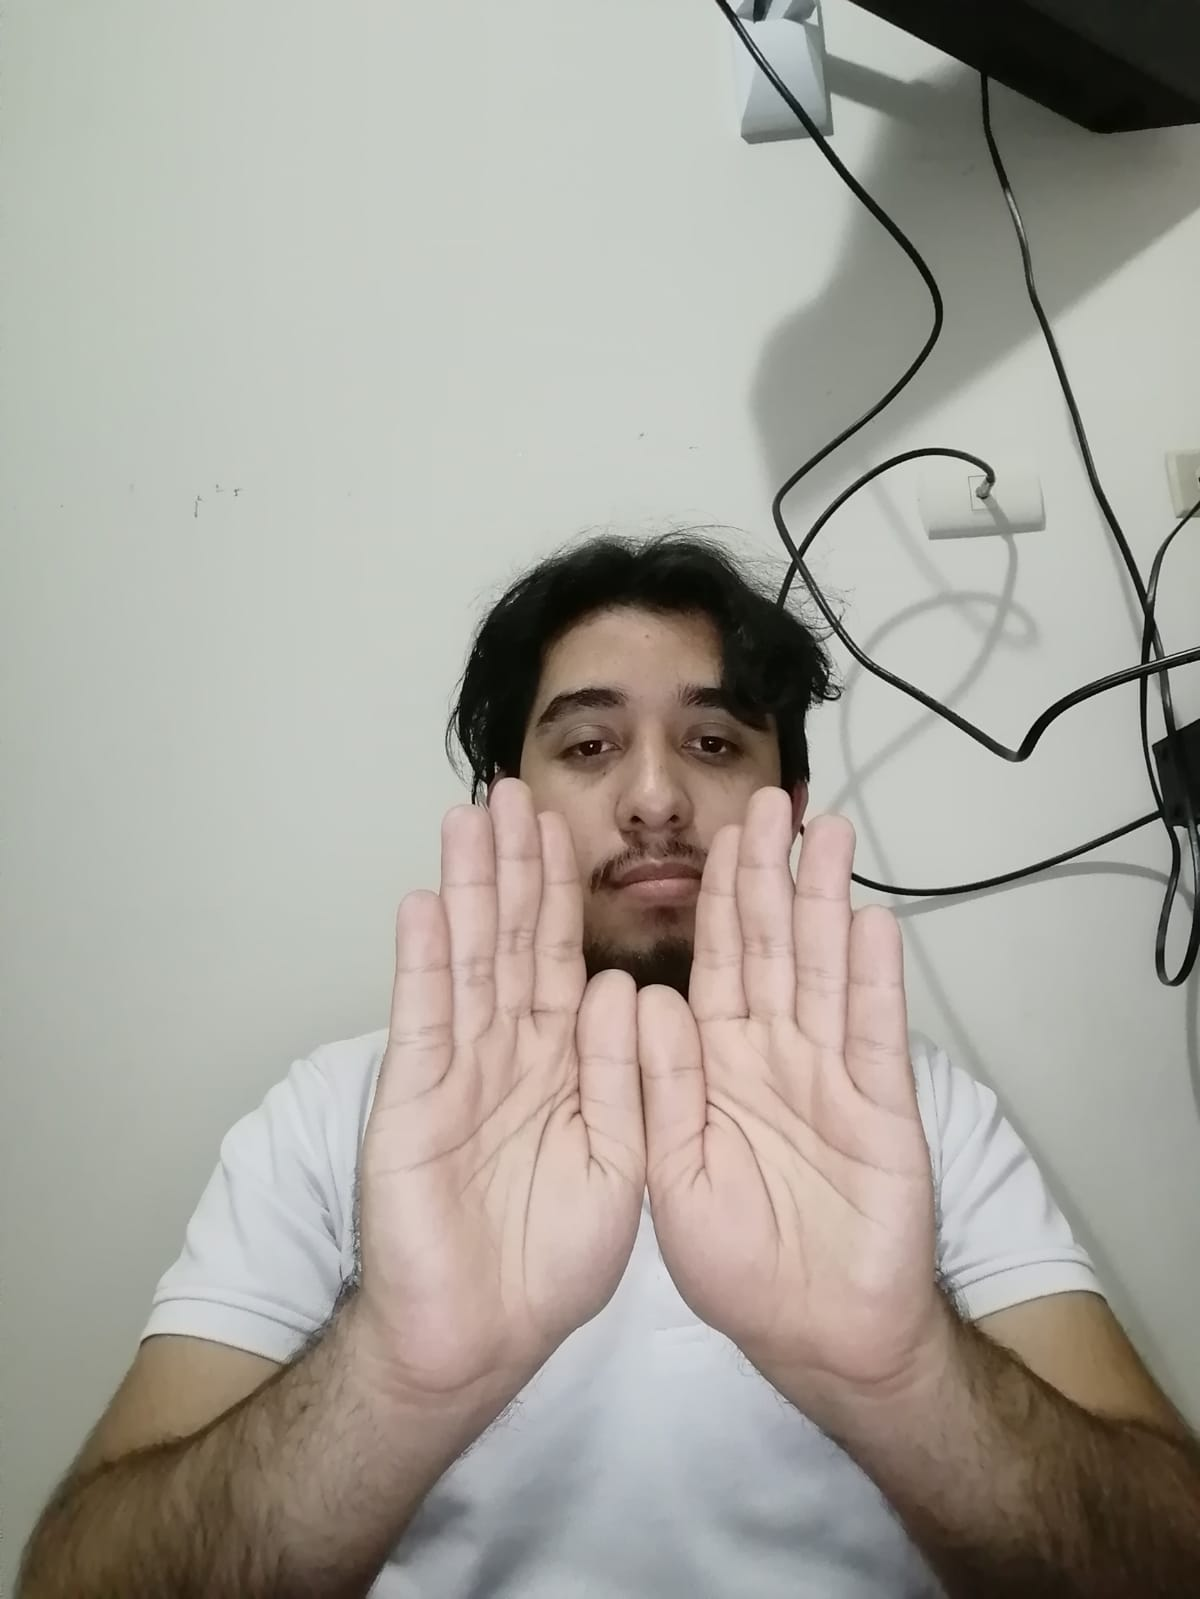Door: (338, 770, 950, 1399)
